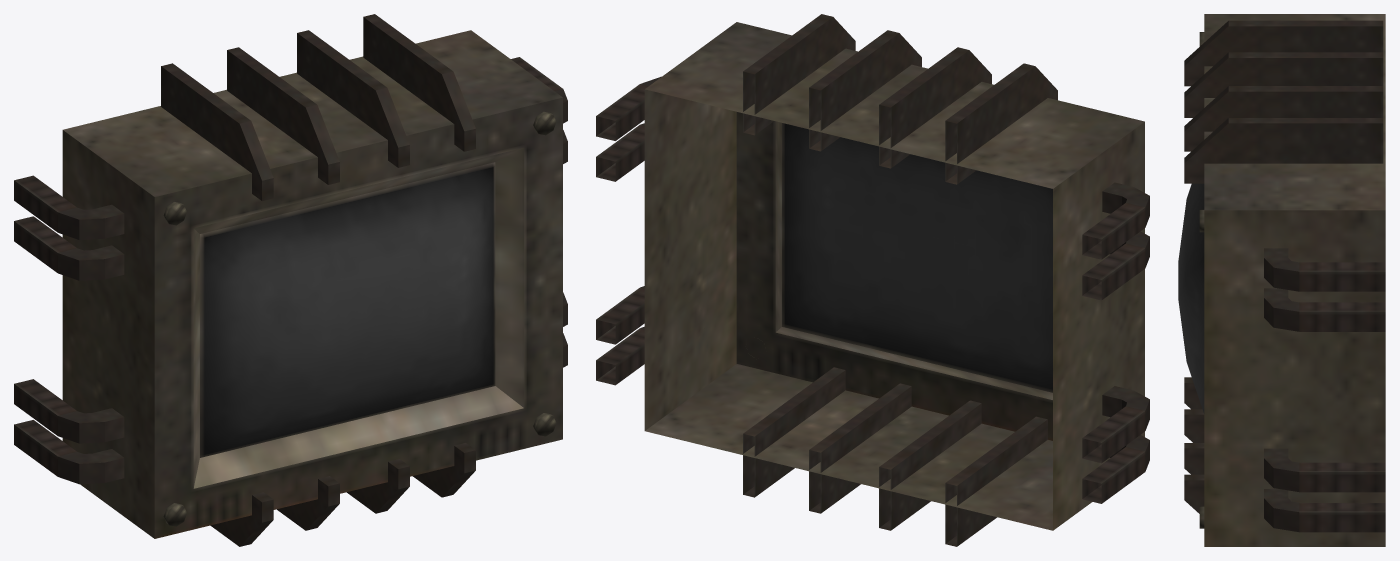
File: screen_etx_1_partial.obj
The picture shows the model from 3 angles, left to right: view 1: azimuth 30°, elevation 25°; view 2: azimuth 150°, elevation 25°; view 3: azimuth 270°, elevation 25°; orthographic projection.
Visible parts, largest first — view 1: screen_etx_1_partial, screen_etx_1_partial_round_screen; view 2: screen_etx_1_partial; view 3: screen_etx_1_partial, screen_etx_1_partial_round_screen.
Part boxes in pixels (x1,y1,x2,y2): screen_etx_1_partial: (14, 14, 567, 546); screen_etx_1_partial_round_screen: (200, 162, 495, 457); screen_etx_1_partial: (596, 14, 1149, 546); screen_etx_1_partial: (1184, 14, 1385, 546); screen_etx_1_partial_round_screen: (1178, 183, 1204, 413).
Bounding box in the file's own units: 0.468 × 0.3744 × 0.1686.
